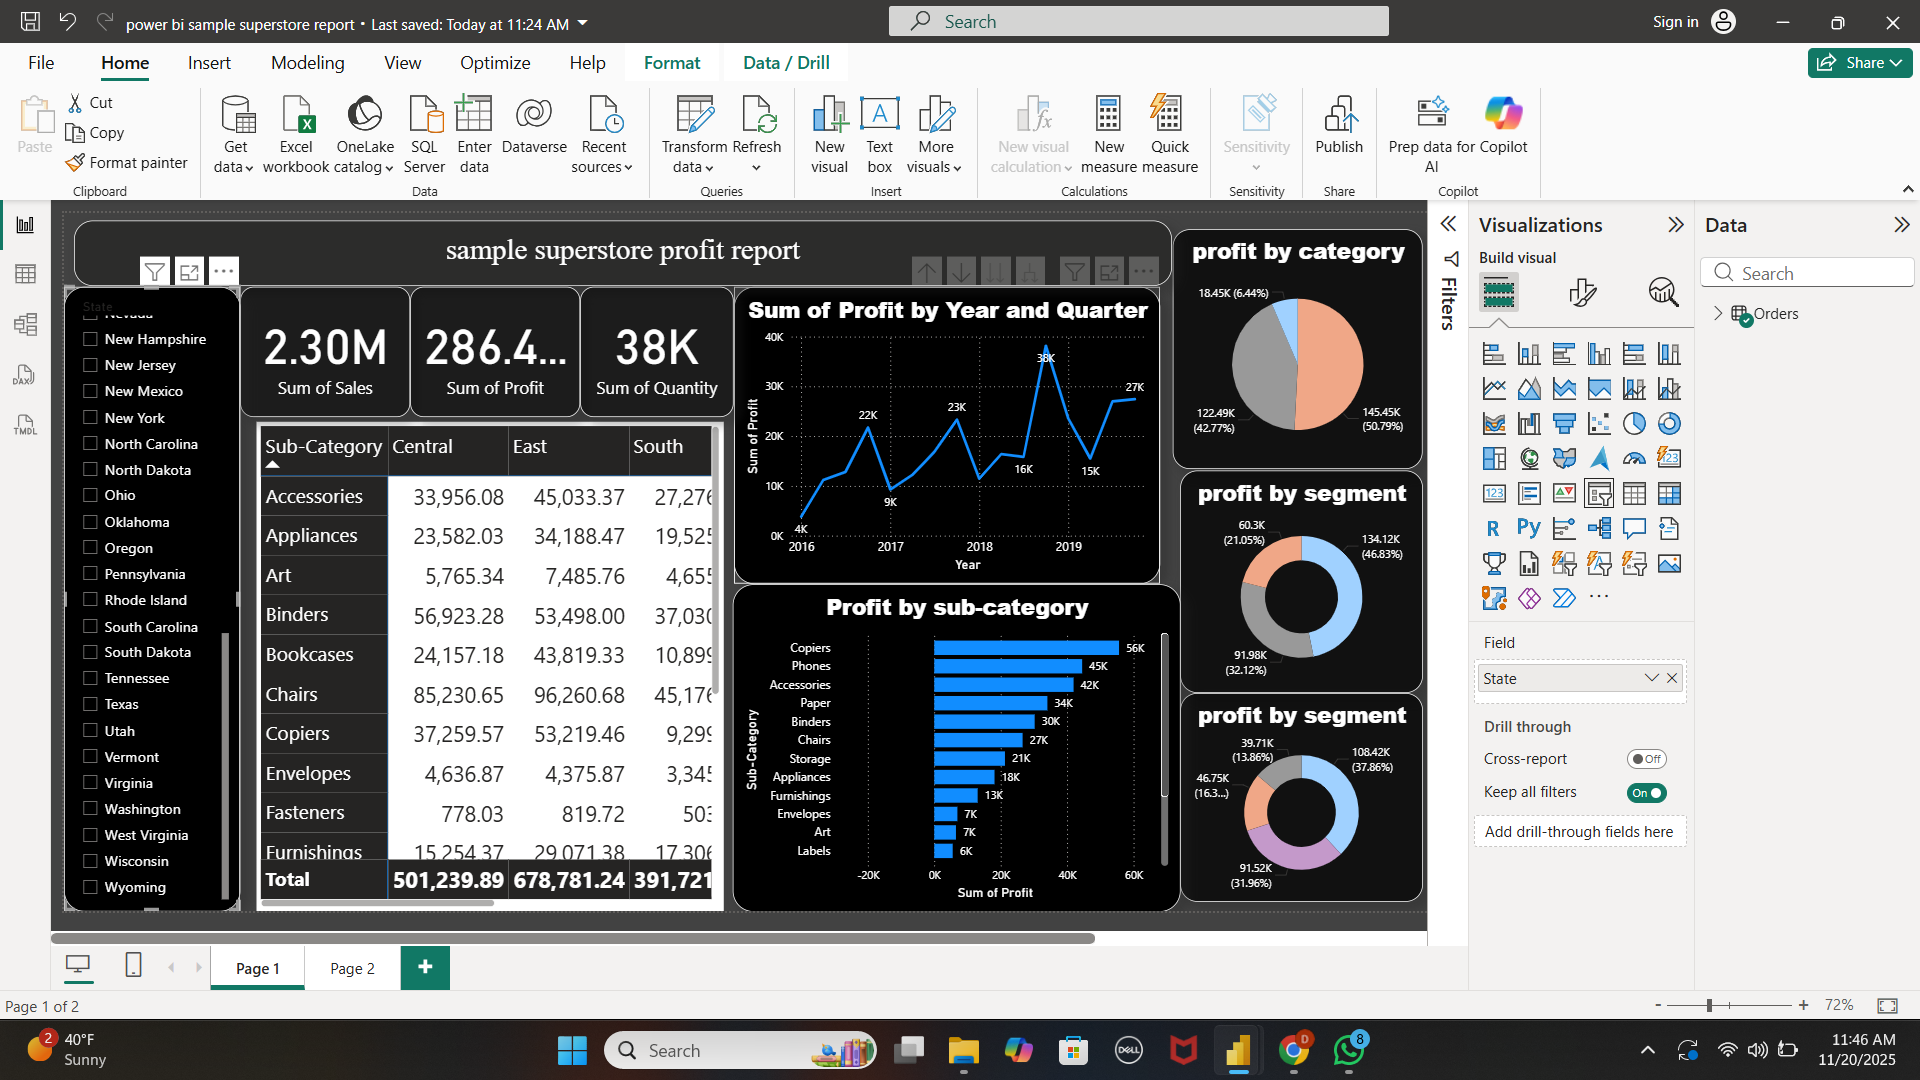

What the dashboard file says about the page in this screenshot:
{"tool":"powerbi","page":{"name":"Page 1","canvas":[2000,776],"ordinal":0},"visuals":[{"type":"pieChart","title":"profit by category","fields":{"Category":["Orders.Category"],"Y":["Sum(Orders.Profit)"]},"box":[1231.9,18.1,277.8,266.7],"z":0},{"type":"donutChart","title":"profit by segment","fields":{"Y":["Sum(Orders.Profit)"],"Category":["Orders.Segment"]},"box":[1240.3,286.1,269.4,247.2],"z":1000},{"type":"donutChart","title":"profit by segment","fields":{"Y":["Sum(Orders.Profit)"],"Category":["Orders.Region"]},"box":[1240.3,533.3,269.4,231.9],"z":2000},{"type":"lineChart","fields":{"Category":["Orders.Order Date.Variation.Date Hierarchy.Year","Orders.Order Date.Variation.Date Hierarchy.Quarter"],"Y":["Sum(Orders.Profit)"]},"box":[744.4,81.9,473.6,330.6],"z":3000},{"type":"textbox","box":[11.2,8.8,1220,72.5],"z":4000},{"type":"barChart","title":"Profit by sub-category","fields":{"Category":["Orders.Sub-Category"],"Y":["Sum(Orders.Profit)"]},"box":[743.1,412.5,497.2,363.9],"z":5000},{"type":"slicer","fields":{"Values":["Orders.State"]},"box":[0,81.9,195.8,694.4],"z":6000},{"type":"pivotTable","fields":{"Values":["Sum(Orders.Sales)"],"Rows":["Orders.Sub-Category"],"Columns":["Orders.Region"]},"box":[213.9,231.9,519.4,544.4],"z":7000},{"type":"card","fields":{"Values":["Sum(Orders.Sales)"]},"box":[196.2,81.2,188.8,145],"z":8000},{"type":"card","fields":{"Values":["Sum(Orders.Profit)"]},"box":[385,81.2,188.8,145],"z":9000},{"type":"card","fields":{"Values":["Sum(Orders.Quantity)"]},"box":[573.8,81.2,170,145],"z":10000}]}

Visuals, with their boxes in screenshot pixels (x1, y1, x2, y2):
"profit by category" pieChart: [1170,0,1424,220]
"profit by segment" donutChart: [1178,221,1424,447]
"profit by segment" donutChart: [1178,447,1424,659]
lineChart - Orders.Order Date.Variation.Date Hierarchy.Year x Orders.Order Date.Variation.Date Hierarchy.Quarter: [725,35,1157,337]
textbox: [55,0,1169,34]
"Profit by sub-category" barChart: [724,337,1178,669]
slicer - Orders.State: [45,35,224,669]
pivotTable - Sum(Orders.Sales) x Orders.Sub-Category: [240,172,715,669]
card - Sum(Orders.Sales): [224,34,397,167]
card - Sum(Orders.Profit): [397,34,569,167]
card - Sum(Orders.Quantity): [569,34,724,167]
